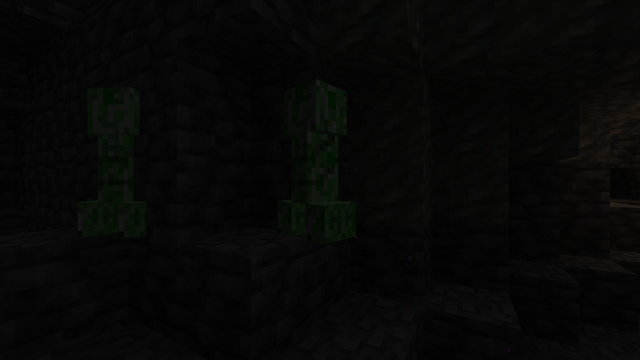creepers: (277, 69, 349, 243), (84, 74, 141, 239)
